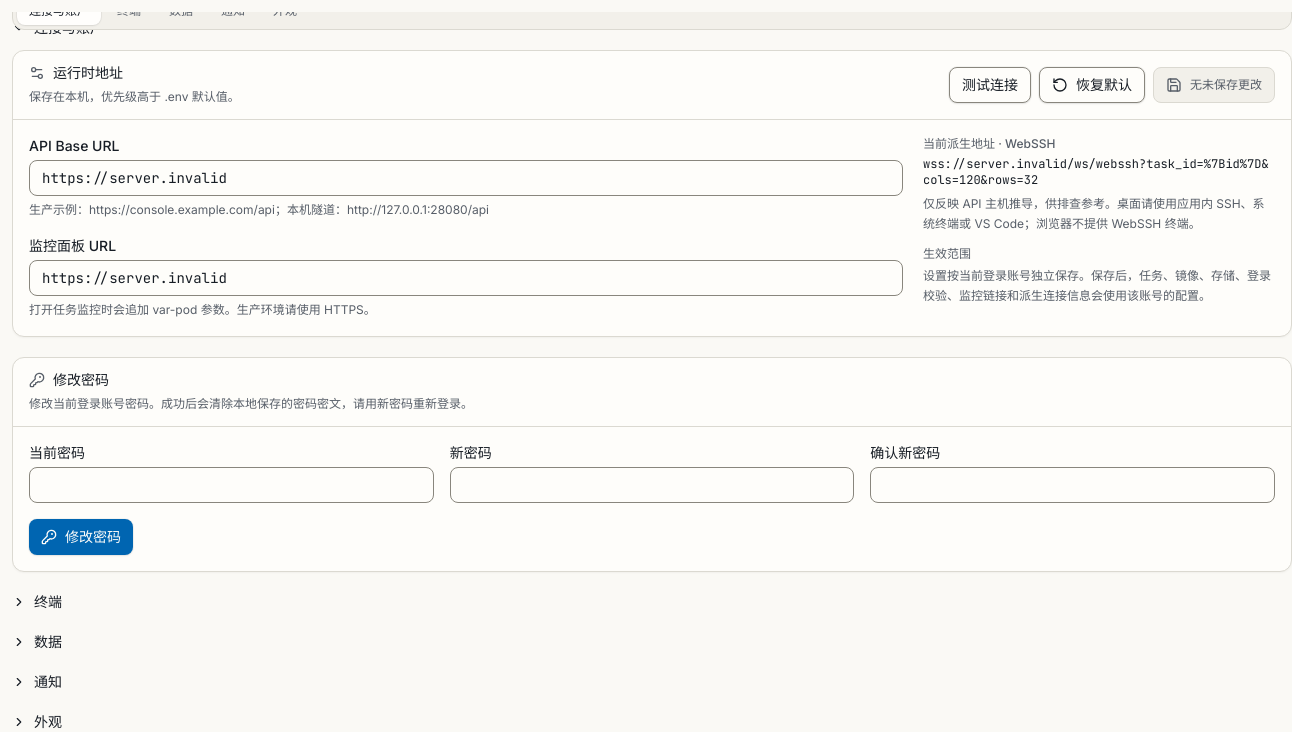
it: SettingsPage › requests permission before retaining system notifications and falls back to in-app when denied
(page scrolled)
Click the 2nd button "通知" at (37, 682), box [12,672,62,692]
(page scrolled)
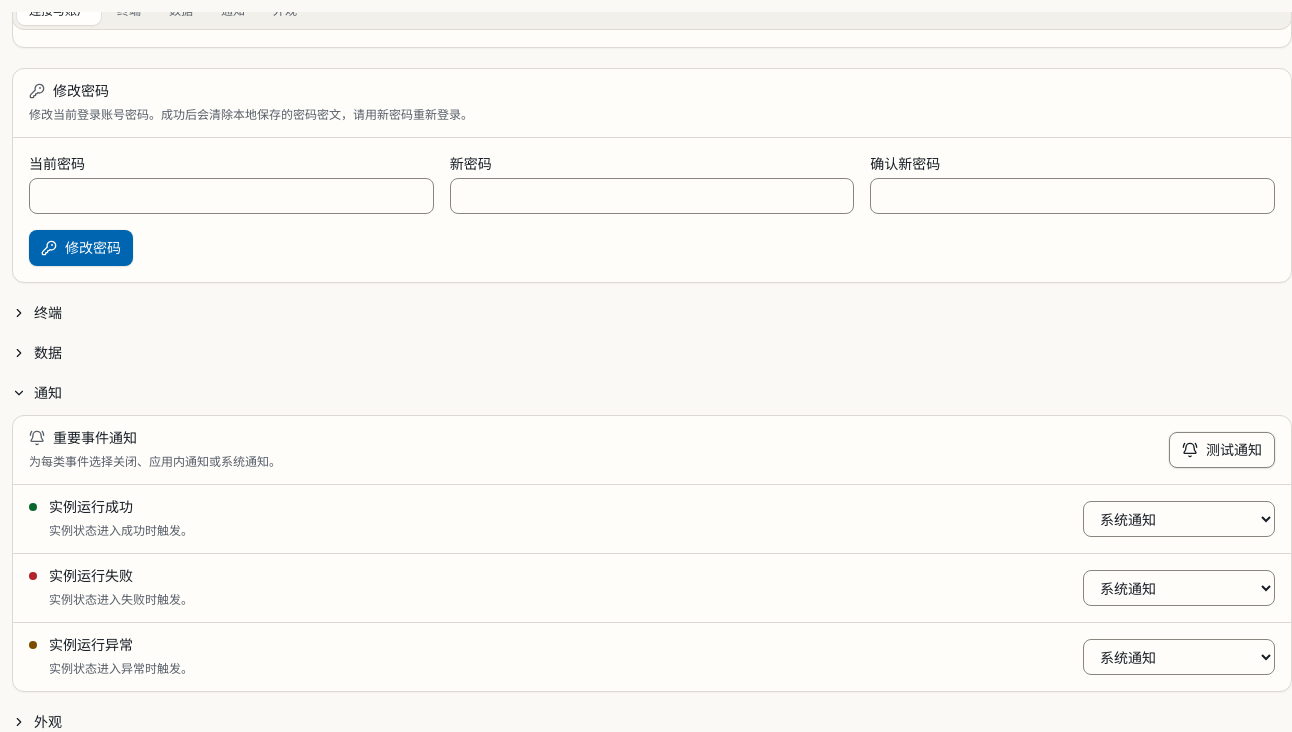
Select "系统通知" in the dropdown labelled "实例运行成功" at (1179, 519), box [1083,501,1275,537]
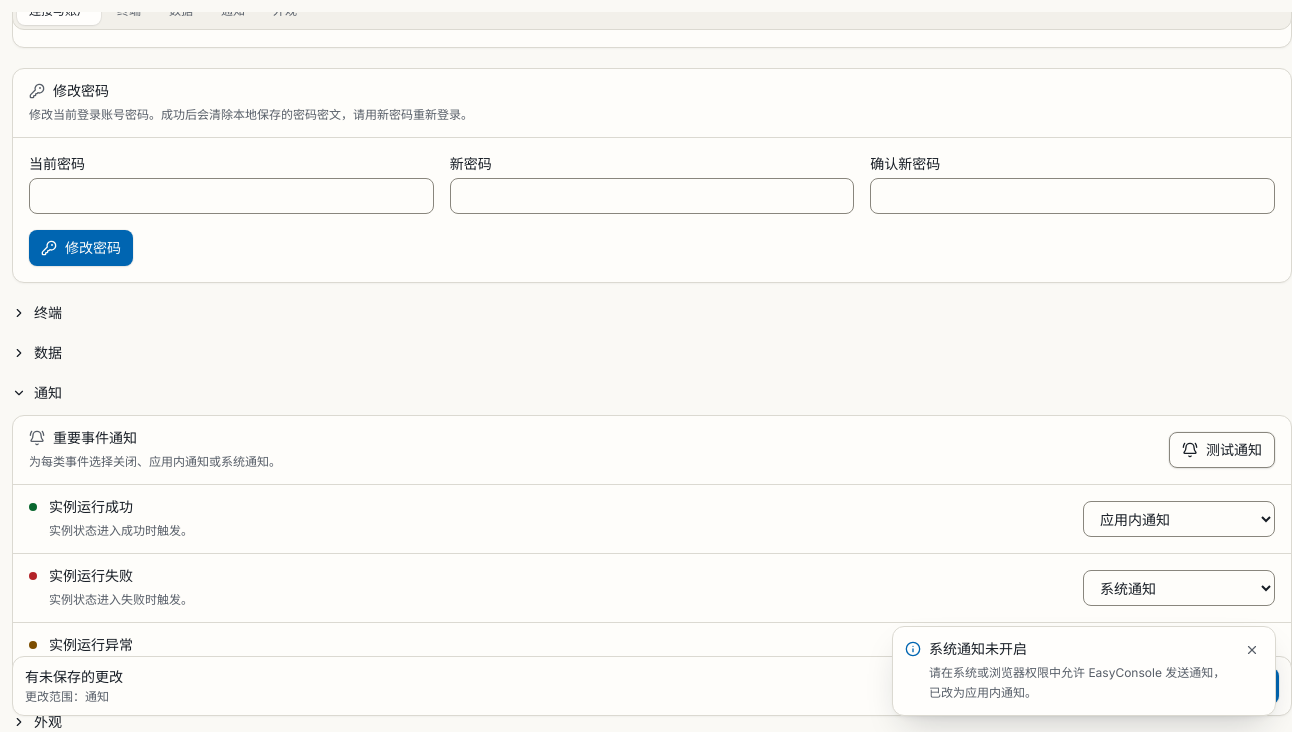
Now the text "系统通知未开启" is shown, box [929,640,1027,657]
